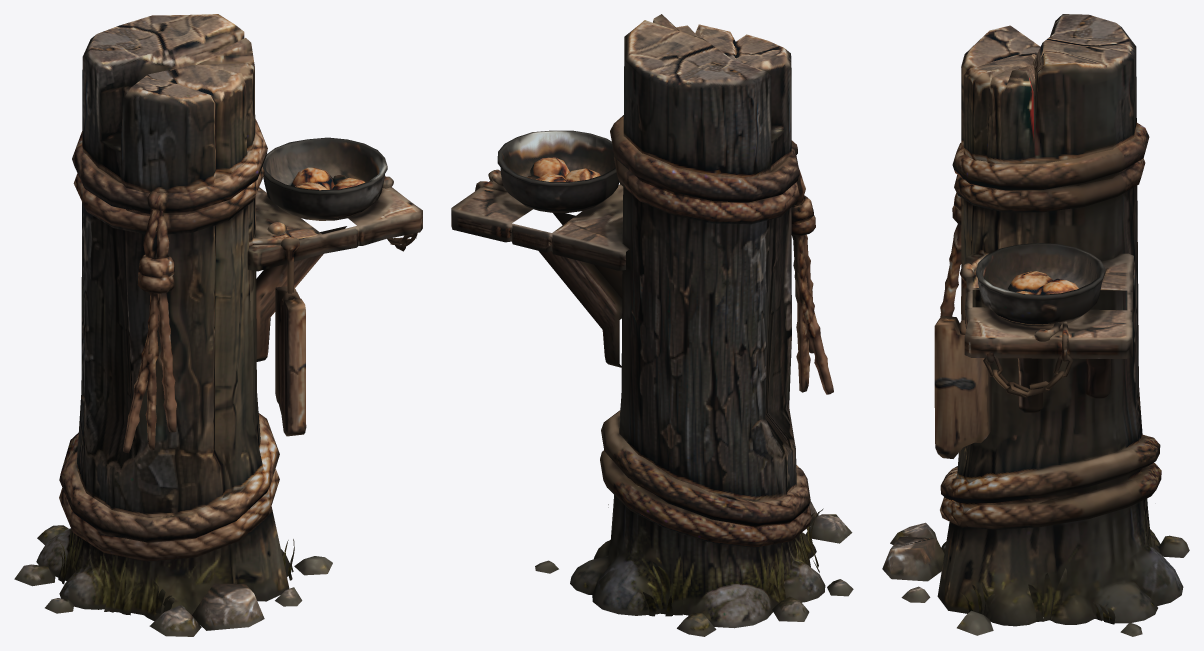
File: act1_kit_v1_toll_post.glb
3 views of the same model, side by side, from view 1: azimuth 30°, elevation 25°; view 2: azimuth 150°, elevation 25°; view 3: azimuth 270°, elevation 25° (orthographic).
Parts seen in each view (by area): view 1: act1_kit_v1_toll_post; view 2: act1_kit_v1_toll_post; view 3: act1_kit_v1_toll_post.
Boxes of the visible parts, <box> form: act1_kit_v1_toll_post: <box>14,14,422,636</box>; act1_kit_v1_toll_post: <box>451,14,853,636</box>; act1_kit_v1_toll_post: <box>882,14,1189,636</box>.
Bounding box in the file's own units: 0.7019 × 1 × 0.5128.
Materials: 1 (1 with a texture image).
